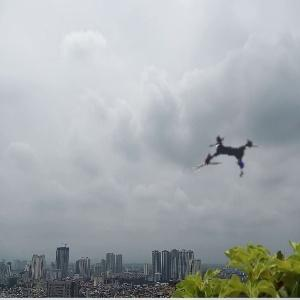drone: (174, 101, 285, 212)
